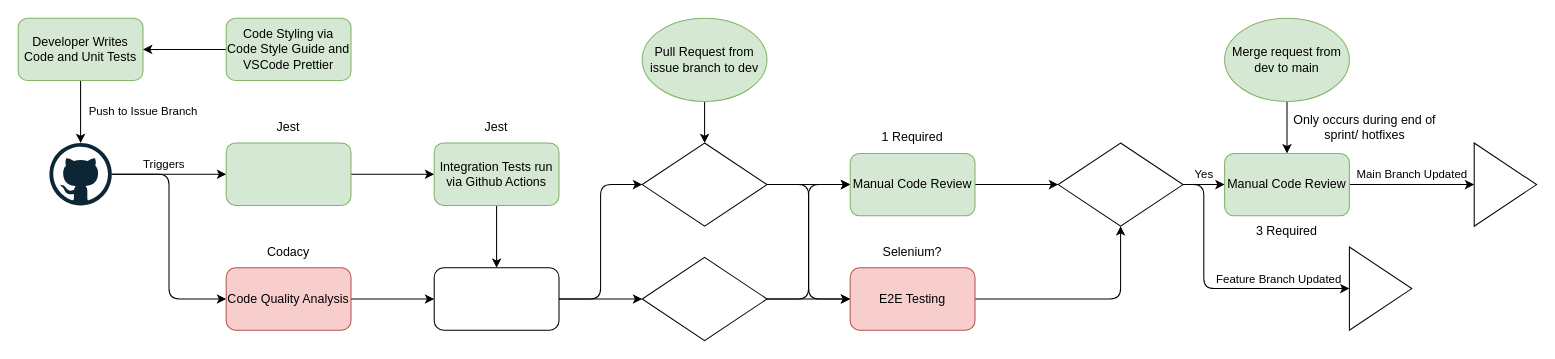
Some shapes in this 1555 by 359 pixel diagram are drawn without their labels. The centre of each missing label's shape, as x and y in pixels:
"Aggregated Results" belongs at point (496, 298).
"Both Pass?" belongs at point (1120, 184).
"Codacy Happy?" belongs at point (704, 298).
"Tests Passed?" belongs at point (704, 184).
"Unit Tests run via Github Actions" belongs at point (288, 173).
